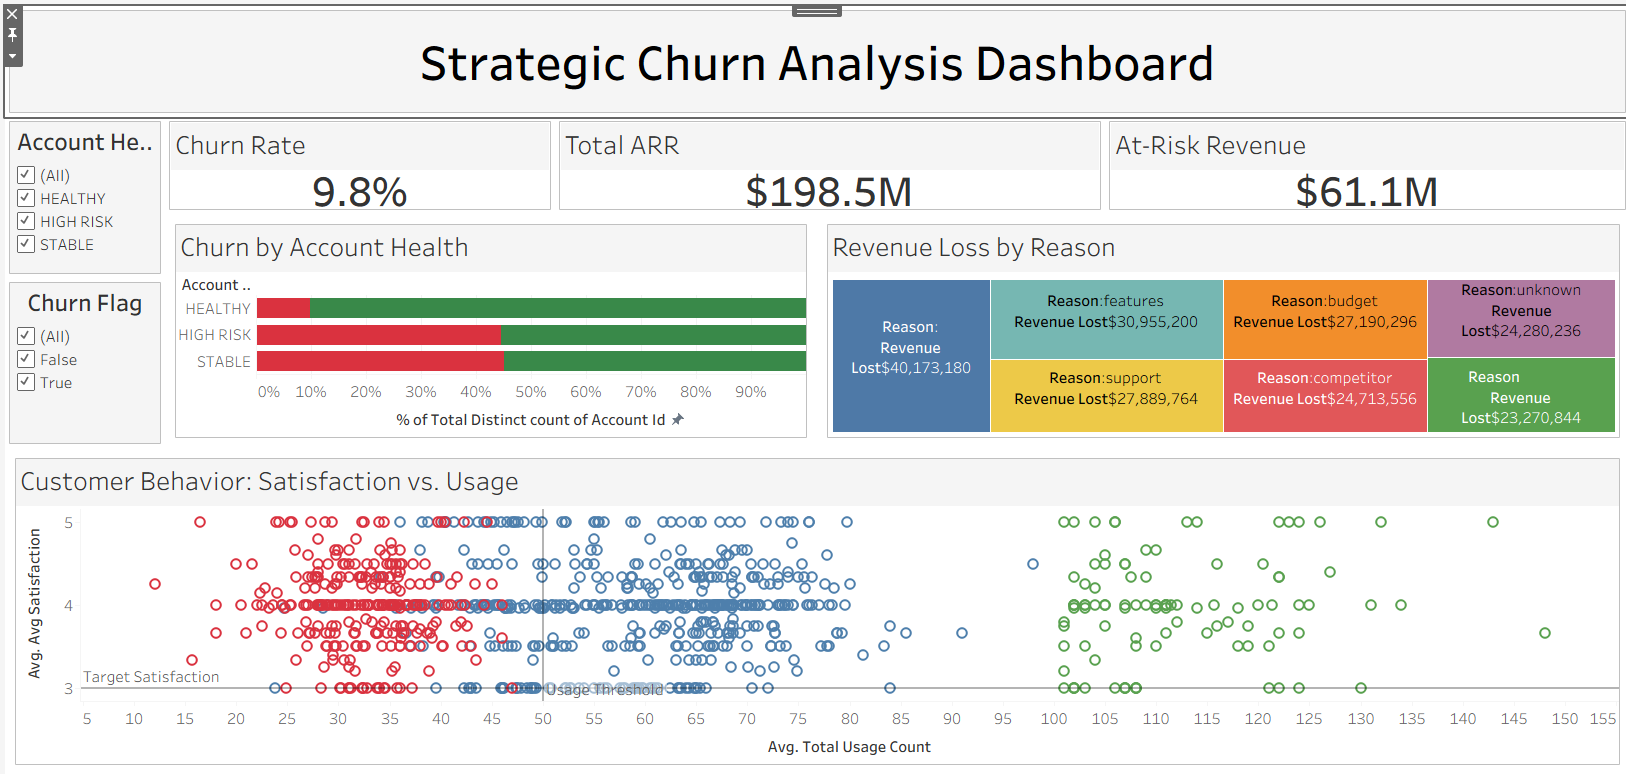

What the dashboard file says about the page in this screenshot:
{"tool":"tableau","page":{"name":"Dashboard 1","canvas":[1000,1000],"units":"permille","ordinal":0},"visuals":[{"type":"title","box":[4.9,10.2,990.2,141.4]},{"type":"filter","title":"Churn by Account Health","param":"[federated.007drmz03sxdvz1bt7gki14xhj3x].[none:Calculation_0523699988127747:nk]","box":[4.9,151.6,97.5,205.1]},{"type":"worksheet","title":"Churn Rate","mark":"Automatic","box":[102.4,151.6,237.7,123.9]},{"type":"worksheet","title":"Total ARR","mark":"Automatic","box":[340.1,151.6,335.3,123.9]},{"type":"worksheet","title":"At-Risk Revenue","mark":"Automatic","box":[675.4,151.6,319.7,123.9]},{"type":"worksheet","title":"Churn by Account Health","mark":"Automatic","rows":["Calculation_0523699988127747"],"box":[102.4,275.5,397.6,297.7]},{"type":"worksheet","title":"Revenue Loss by Reason","mark":"Square","box":[500,275.5,495.2,297.7]},{"type":"filter","title":"Churn by Account Health","param":"[federated.007drmz03sxdvz1bt7gki14xhj3x].[none:churn_flag:nk]","box":[4.9,356.7,97.5,216.6]},{"type":"worksheet","title":"Customer Behavior: Satisfaction vs. Usage","mark":"Automatic","rows":["avg_satisfaction"],"cols":["total_usage_count"],"box":[4.9,573.2,990.2,416.6]}]}

Visuals, with their boxes on the dashboard's canvas, which has no fixed pixel size, in thousandths of its width and height (x1, y1, x2, y2). These are canvas units, not pixel positions in the 1626x774 screenshot, which may show the page scaled, cropped or inside an application window:
title: x1=5, y1=10, x2=995, y2=152
"Churn by Account Health" filter: x1=5, y1=152, x2=102, y2=357
"Churn Rate" worksheet: x1=102, y1=152, x2=340, y2=276
"Total ARR" worksheet: x1=340, y1=152, x2=675, y2=276
"At-Risk Revenue" worksheet: x1=675, y1=152, x2=995, y2=276
"Churn by Account Health" worksheet: x1=102, y1=276, x2=500, y2=573
"Revenue Loss by Reason" worksheet (Square marks): x1=500, y1=276, x2=995, y2=573
"Churn by Account Health" filter: x1=5, y1=357, x2=102, y2=573
"Customer Behavior: Satisfaction vs. Usage" worksheet: x1=5, y1=573, x2=995, y2=990
